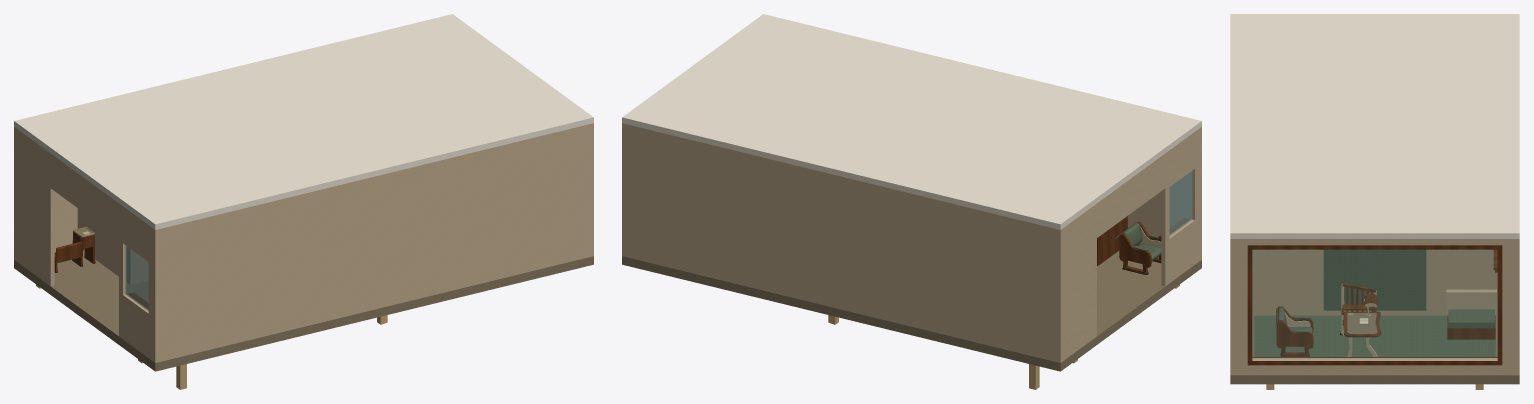
File: NG428_WarmInterior_r001.glb
The picture shows the model from 3 angles, left to right: view 1: azimuth 30°, elevation 25°; view 2: azimuth 150°, elevation 25°; view 3: azimuth 270°, elevation 25°; orthographic projection. The views are drawn at different scales.
Parts seen in each view (by area): view 1: NG428_RuntimeBatch_001, NG428_RoomFloor, NG428_ScreenedStreetGlass, NG428_RuntimeBatch_013; view 2: NG428_RuntimeBatch_001, NG428_RoomFloor, NG428_ScreenedStreetGlass, NG428_RuntimeBatch_049, NG428_RuntimeBatch_002; view 3: NG428_RuntimeBatch_001, NGP_428_PrivateViewPane, NG428_RoomFloor, NGW_428_OutlookFloorInlay, NG428_RuntimeBatch_006, NGP_428_Frame_Sill, NGP_428_Frame_Head, NGP_428_ViewSeat_Back, NG428_RuntimeBatch_028, NG428_RuntimeBatch_007, NGP_428_ViewSeat_Cushion, NGP_428_Frame_Left (+4 smaller).
Boxes of the visible parts, x1=… form: NG428_RuntimeBatch_001: x1=14, y1=14, x2=593, y2=362; NG428_RoomFloor: x1=14, y1=250, x2=593, y2=371; NG428_ScreenedStreetGlass: x1=125, y1=245, x2=148, y2=310; NG428_RuntimeBatch_013: x1=54, y1=231, x2=95, y2=271; NG428_RuntimeBatch_001: x1=622, y1=14, x2=1201, y2=362; NG428_RoomFloor: x1=622, y1=251, x2=1201, y2=371; NG428_ScreenedStreetGlass: x1=1169, y1=171, x2=1192, y2=235; NG428_RuntimeBatch_049: x1=1119, y1=221, x2=1161, y2=274; NG428_RuntimeBatch_002: x1=1097, y1=216, x2=1190, y2=265; NG428_RuntimeBatch_001: x1=1230, y1=14, x2=1519, y2=375; NGP_428_PrivateViewPane: x1=1252, y1=250, x2=1497, y2=358; NG428_RoomFloor: x1=1230, y1=249, x2=1519, y2=384; NGW_428_OutlookFloorInlay: x1=1254, y1=315, x2=1495, y2=356; NG428_RuntimeBatch_006: x1=1323, y1=249, x2=1426, y2=310; NGP_428_Frame_Sill: x1=1247, y1=357, x2=1502, y2=365; NGP_428_Frame_Head: x1=1247, y1=245, x2=1502, y2=249; NGP_428_ViewSeat_Back: x1=1446, y1=289, x2=1496, y2=315; NG428_RuntimeBatch_028: x1=1276, y1=306, x2=1313, y2=355; NG428_RuntimeBatch_007: x1=1341, y1=283, x2=1381, y2=337; NGP_428_ViewSeat_Cushion: x1=1448, y1=309, x2=1494, y2=328; NGP_428_Frame_Left: x1=1497, y1=249, x2=1502, y2=360.
Bounding box in the file's own units: 12.9 × 5.31 × 7.2.
37 materials, 20 textured.
